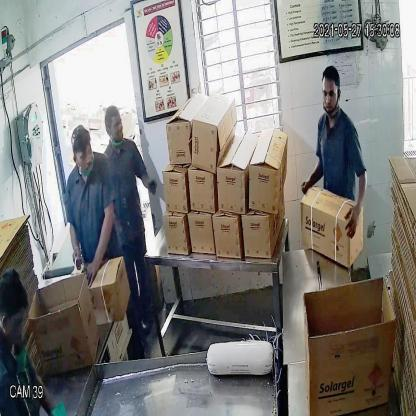no_goggles: (69, 143, 98, 167), (318, 85, 342, 102)
